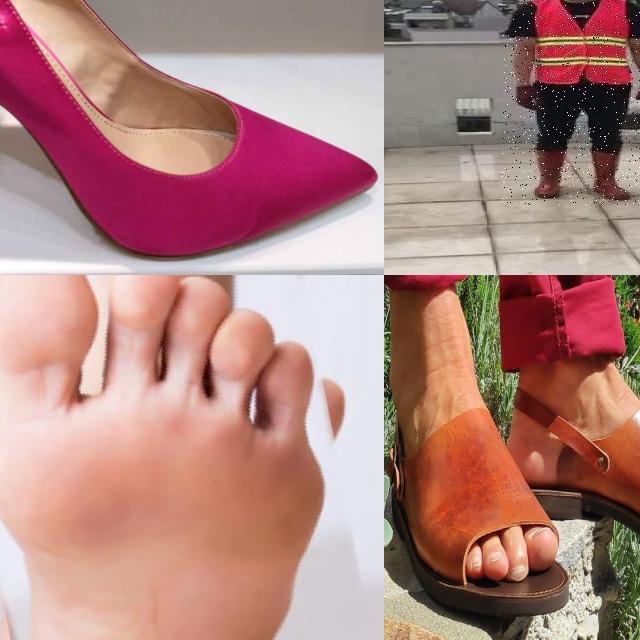Barefoots: (0, 275, 384, 640)
Sandals: (0, 0, 384, 268), (385, 397, 571, 616)
boots: (591, 152, 637, 199), (535, 147, 567, 197)
person: (502, 0, 640, 205)
vest: (533, 0, 631, 83)
